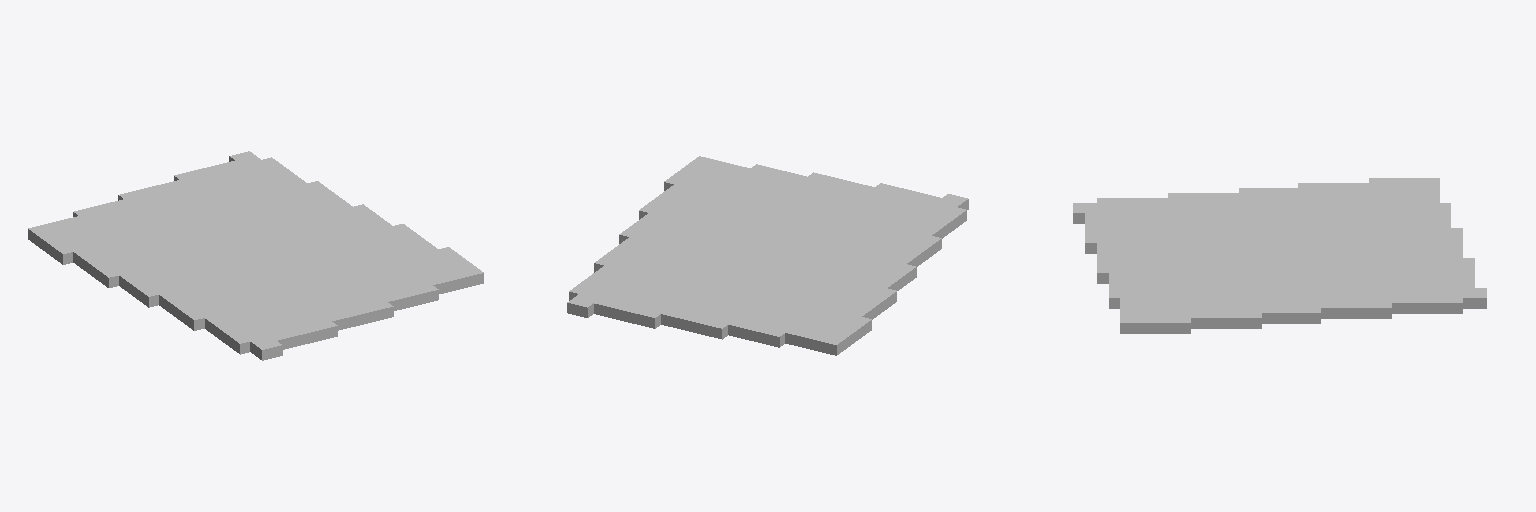
File: paper_note.obj
3 renders of one model, left to right at view 1: azimuth 30°, elevation 25°; view 2: azimuth 150°, elevation 25°; view 3: azimuth 270°, elevation 25°, orthographic.
Visible parts, largest first — view 1: object 1; view 2: object 1; view 3: object 1.
Boxes of the visible parts, x1=… form: object 1: x1=28, y1=151, x2=483, y2=360; object 1: x1=567, y1=156, x2=968, y2=355; object 1: x1=1073, y1=178, x2=1486, y2=333.
Size of the model in its own units: 2.9 by 0.1 by 3.5.